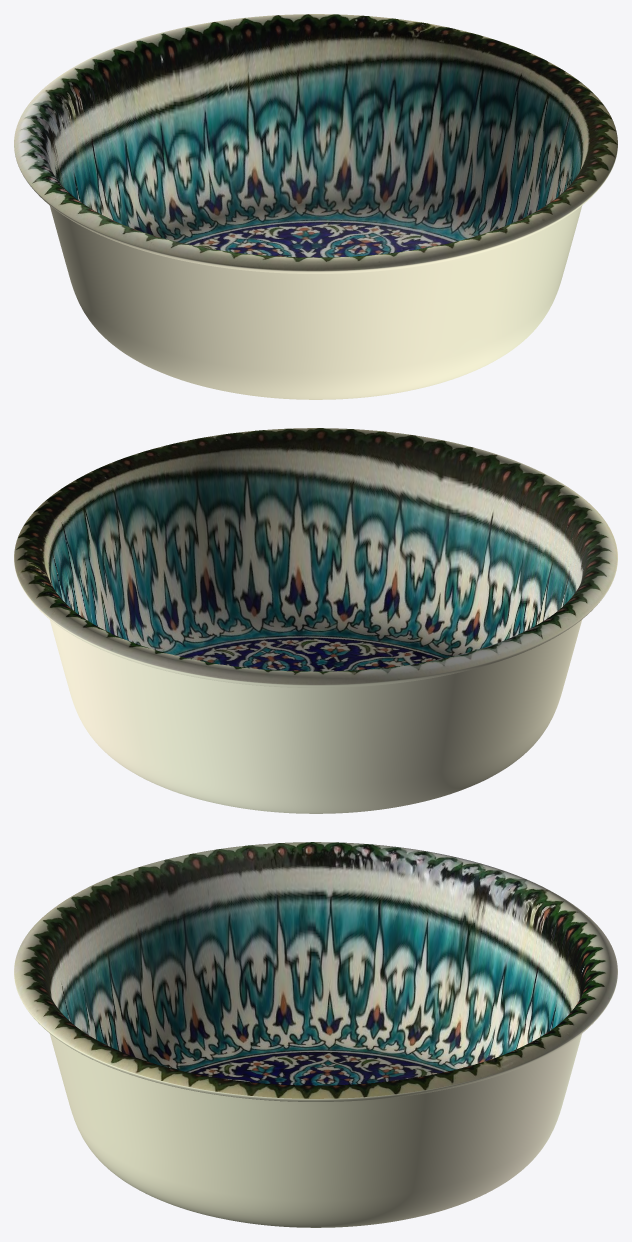
File: Bowl.obj
3 views of the same model, one above another, from view 1: azimuth 30°, elevation 25°; view 2: azimuth 150°, elevation 25°; view 3: azimuth 270°, elevation 25° (orthographic).
Visible parts, largest first — view 1: salad_plate_for_restaurent_ar:Mesh polySurface90, polySurface89 salad_plate_for_restaurent_ar:Mesh; view 2: salad_plate_for_restaurent_ar:Mesh polySurface90, polySurface89 salad_plate_for_restaurent_ar:Mesh; view 3: salad_plate_for_restaurent_ar:Mesh polySurface90, polySurface89 salad_plate_for_restaurent_ar:Mesh.
Part boxes in pixels (x1,y1,x2,y2): salad_plate_for_restaurent_ar:Mesh polySurface90: [14, 14, 617, 270]; polySurface89 salad_plate_for_restaurent_ar:Mesh: [14, 131, 617, 399]; salad_plate_for_restaurent_ar:Mesh polySurface90: [14, 428, 617, 684]; polySurface89 salad_plate_for_restaurent_ar:Mesh: [14, 545, 617, 813]; salad_plate_for_restaurent_ar:Mesh polySurface90: [14, 842, 617, 1098]; polySurface89 salad_plate_for_restaurent_ar:Mesh: [14, 965, 617, 1227].
Size of the model in its own units: 4.66 by 1.5 by 4.66.
Materials: 1 (1 with a texture image).
